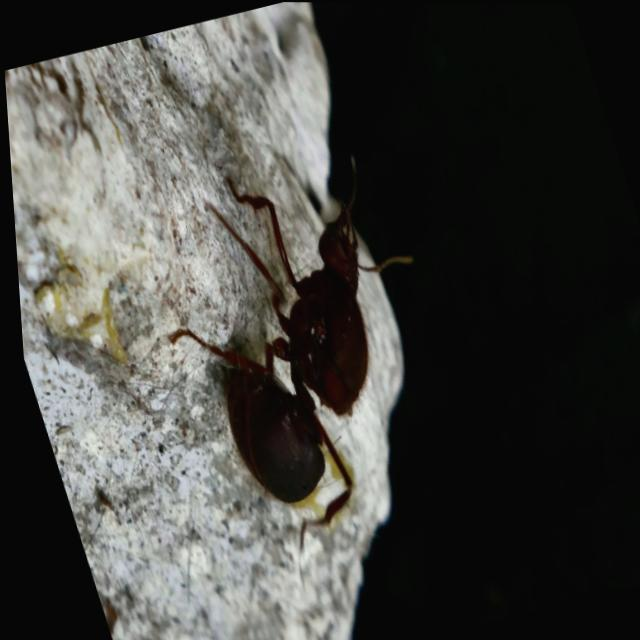Alive-Female-Dealate: (119, 137, 498, 604)
